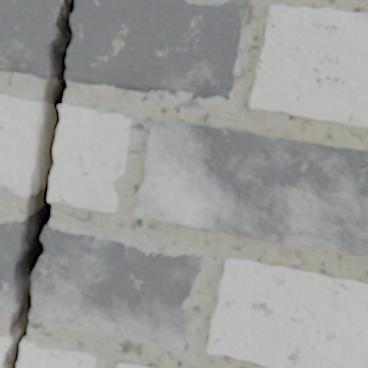brick: (133, 119, 367, 257), (205, 258, 367, 367), (249, 5, 367, 128), (116, 362, 151, 367)
broken_brick: (30, 226, 200, 349), (65, 0, 248, 100), (49, 104, 131, 211), (0, 0, 58, 79), (0, 95, 40, 197), (18, 340, 96, 367), (0, 221, 23, 312), (0, 336, 9, 367)
crack: (1, 0, 75, 367), (0, 182, 10, 190), (109, 180, 115, 188), (177, 301, 183, 305)
